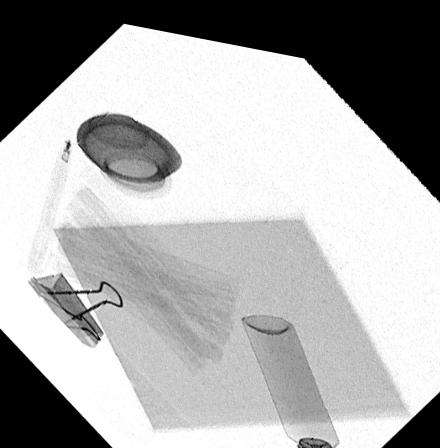Sprayer: (240, 304, 339, 448)
